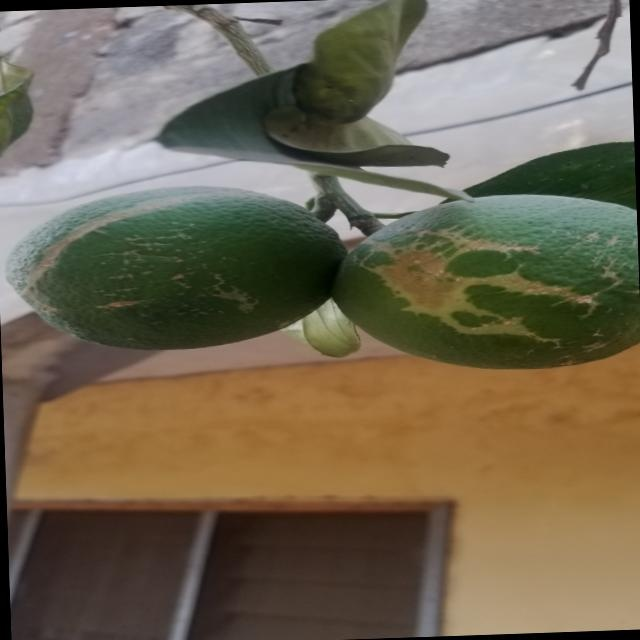agrume: (11, 184, 353, 356), (329, 191, 635, 371)
